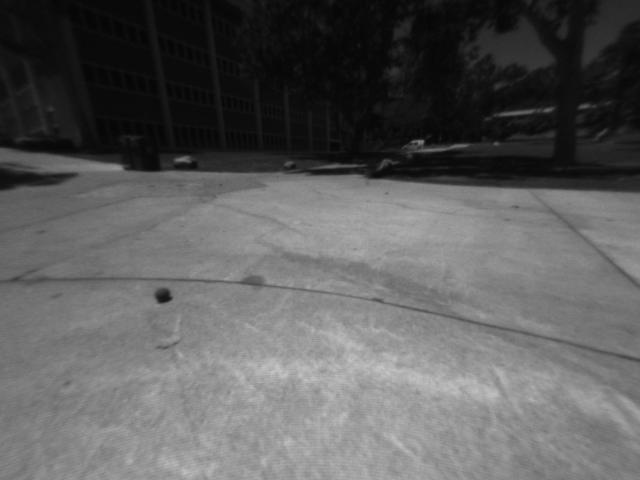dogtoy: (148, 281, 179, 307)
